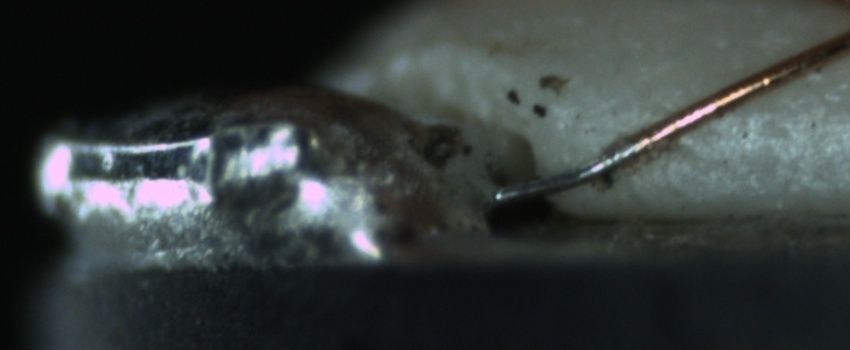TS: (497, 138, 643, 204)
